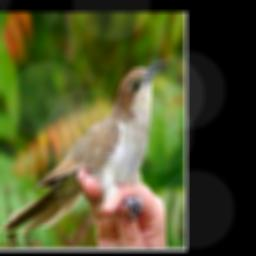Cuckoo: (1, 59, 165, 235)
